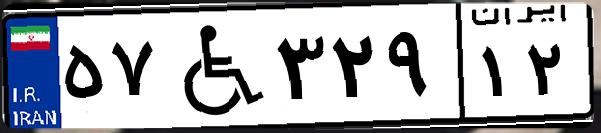1: (475, 38, 525, 113)
2: (330, 28, 385, 110), (525, 38, 570, 115)
3: (270, 28, 330, 110)
5: (57, 26, 110, 100)
7: (110, 28, 158, 98)
9: (385, 28, 445, 110)
ژ (معلولین و جانبازان): (158, 12, 270, 120)
